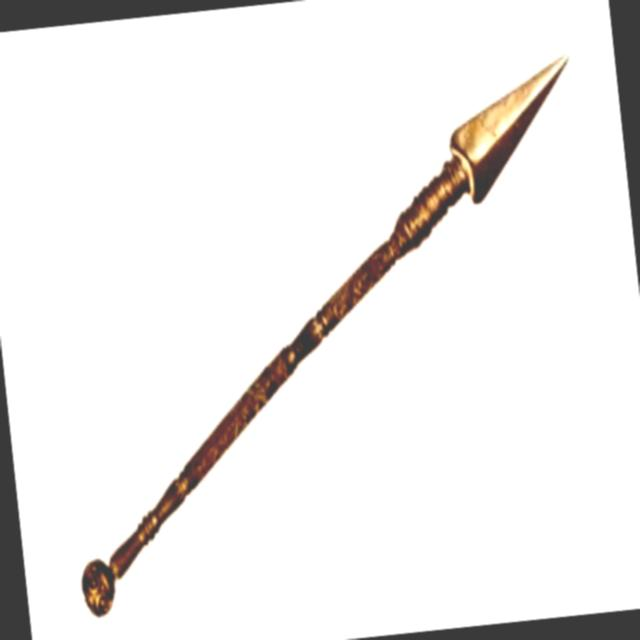spear: (26, 39, 632, 632)
